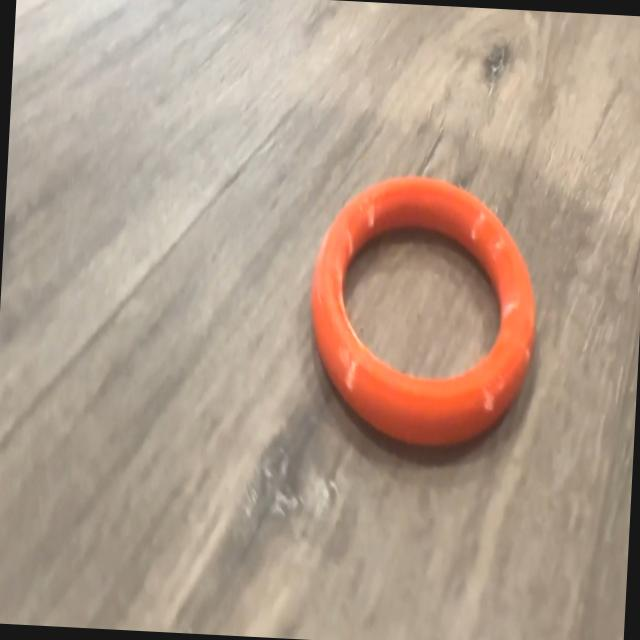note: (304, 168, 545, 456)
